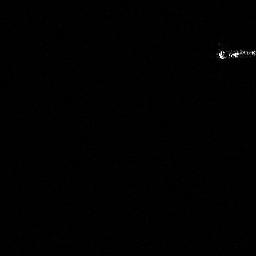ship: (216, 45, 256, 62)
